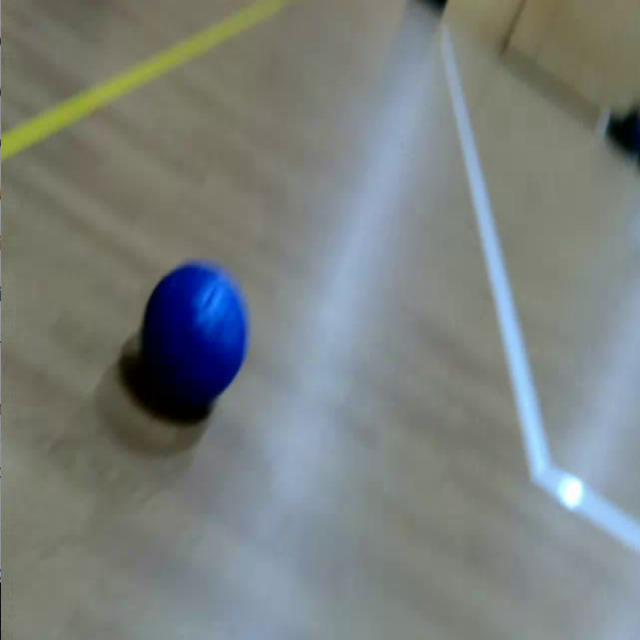blue_ball: (142, 263, 248, 397)
